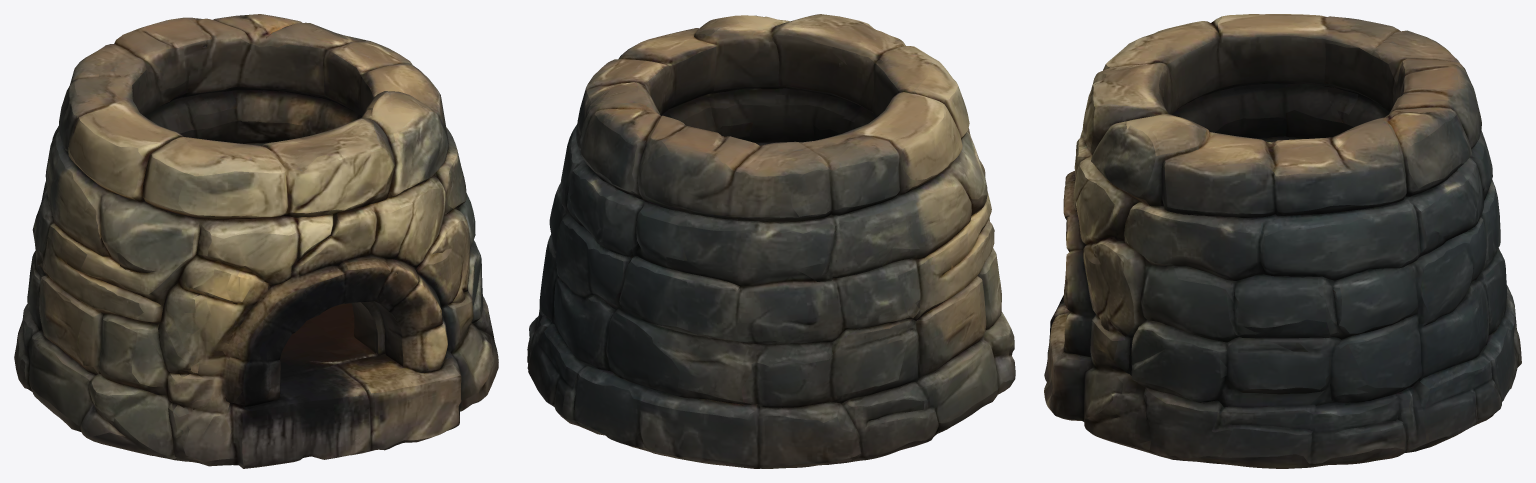
The model's file is env_kiln.glb.
3 renders of one model, left to right at view 1: azimuth 30°, elevation 25°; view 2: azimuth 150°, elevation 25°; view 3: azimuth 270°, elevation 25°, orthographic.
Visible parts, largest first — view 1: world; view 2: world; view 3: world.
Boxes of the visible parts, x1,y1,x2,y2 form: world: [14, 14, 498, 468]; world: [527, 14, 1015, 468]; world: [1044, 14, 1521, 468].
Size of the model in its own units: 1.2 by 0.8017 by 1.18.
Materials: 1 (1 with a texture image).
